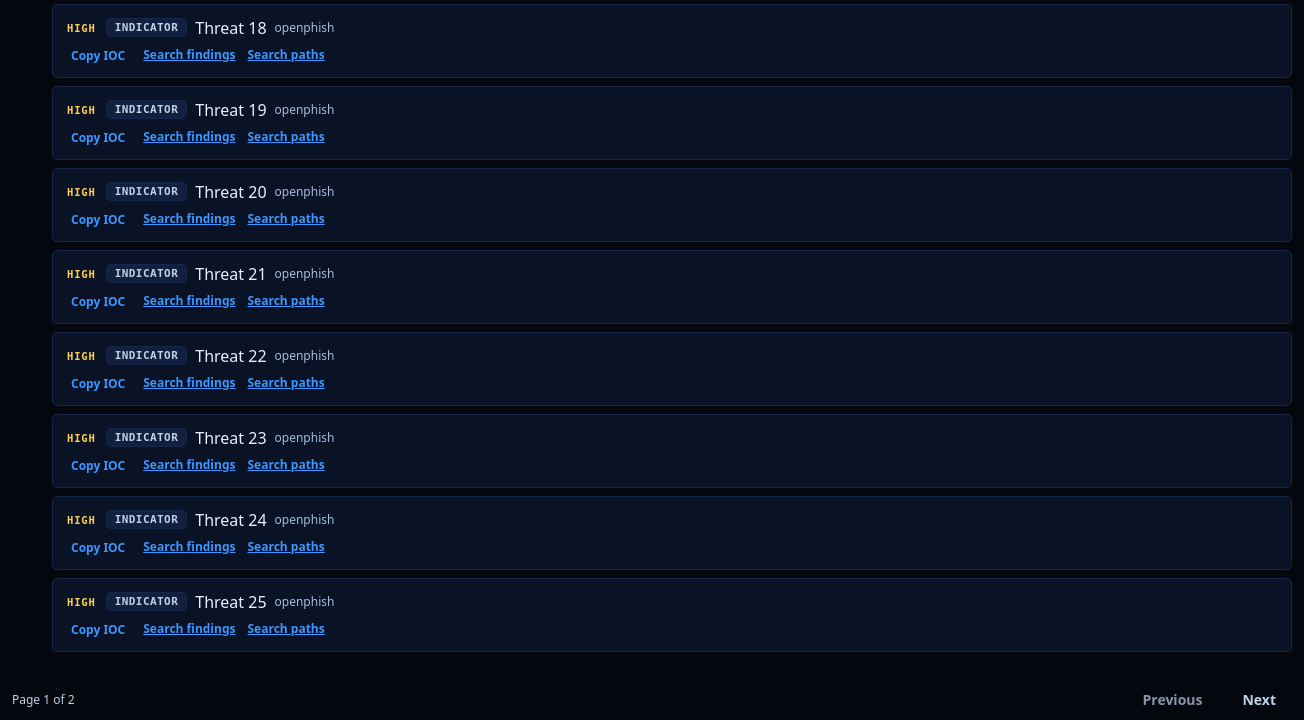
Test case: ThreatFeedWorkbench › loads the full catalog window and paginates filtered results
This screenshot has width=1304, height=720.
(page scrolled)
Check: the text "Page 1 of 2" is shown, box [12,692,75,708]
Check: the text "Threat 26" is not shown
Click the button "Next".
click(1259, 700)  # box [1226,680,1292,719]
(page scrolled)
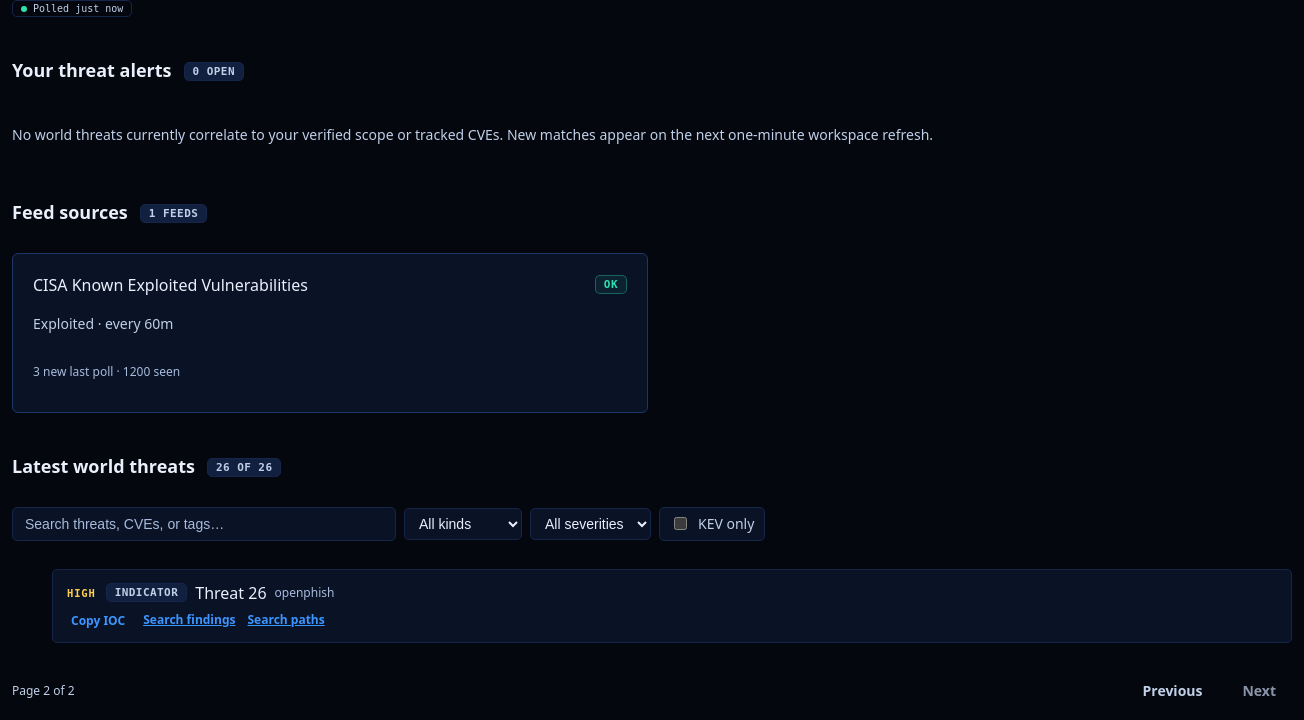
Check: the text "Threat 26" is shown, box [195,582,266,604]
Type "Threat 03" into the field named "Search world threats".
click(204, 524); type("Threat 03")  # box [12,507,396,541]
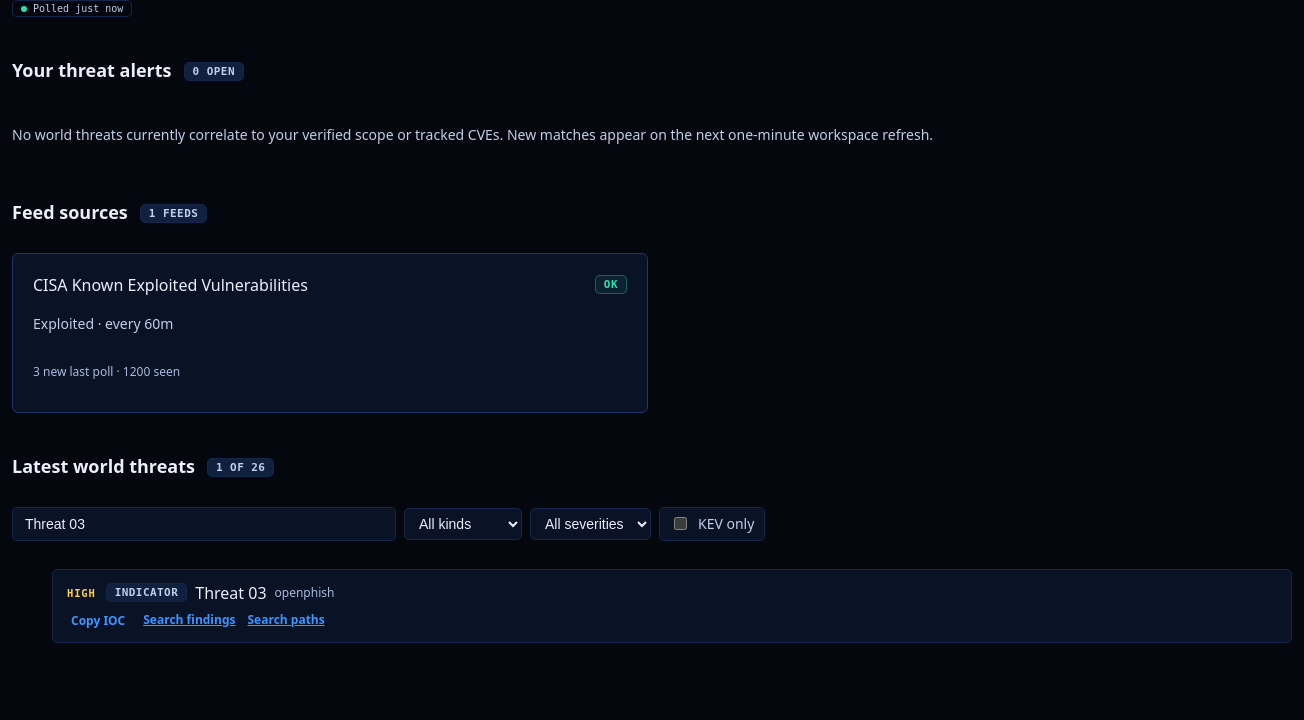
Check: the text "Threat 03" is shown, box [195,582,266,604]
Check: the text "Threat 26" is gone
